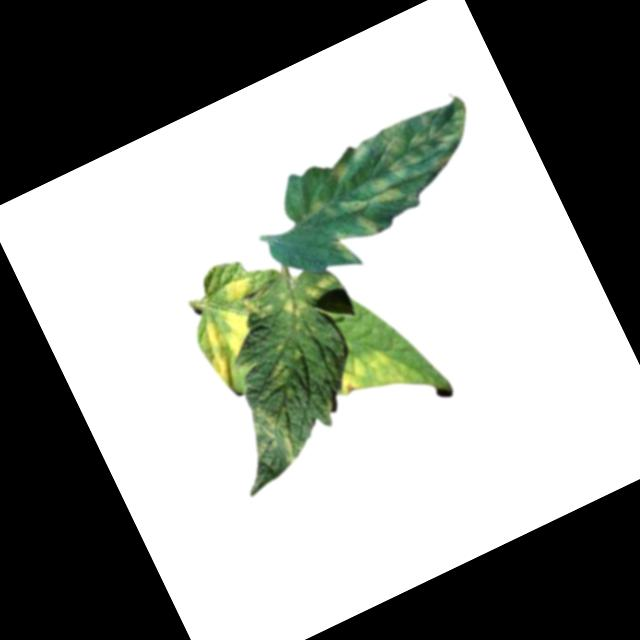Leaf_Mold: (289, 93, 497, 253), (176, 272, 287, 388), (326, 333, 427, 421), (238, 398, 308, 477), (277, 270, 342, 320)
